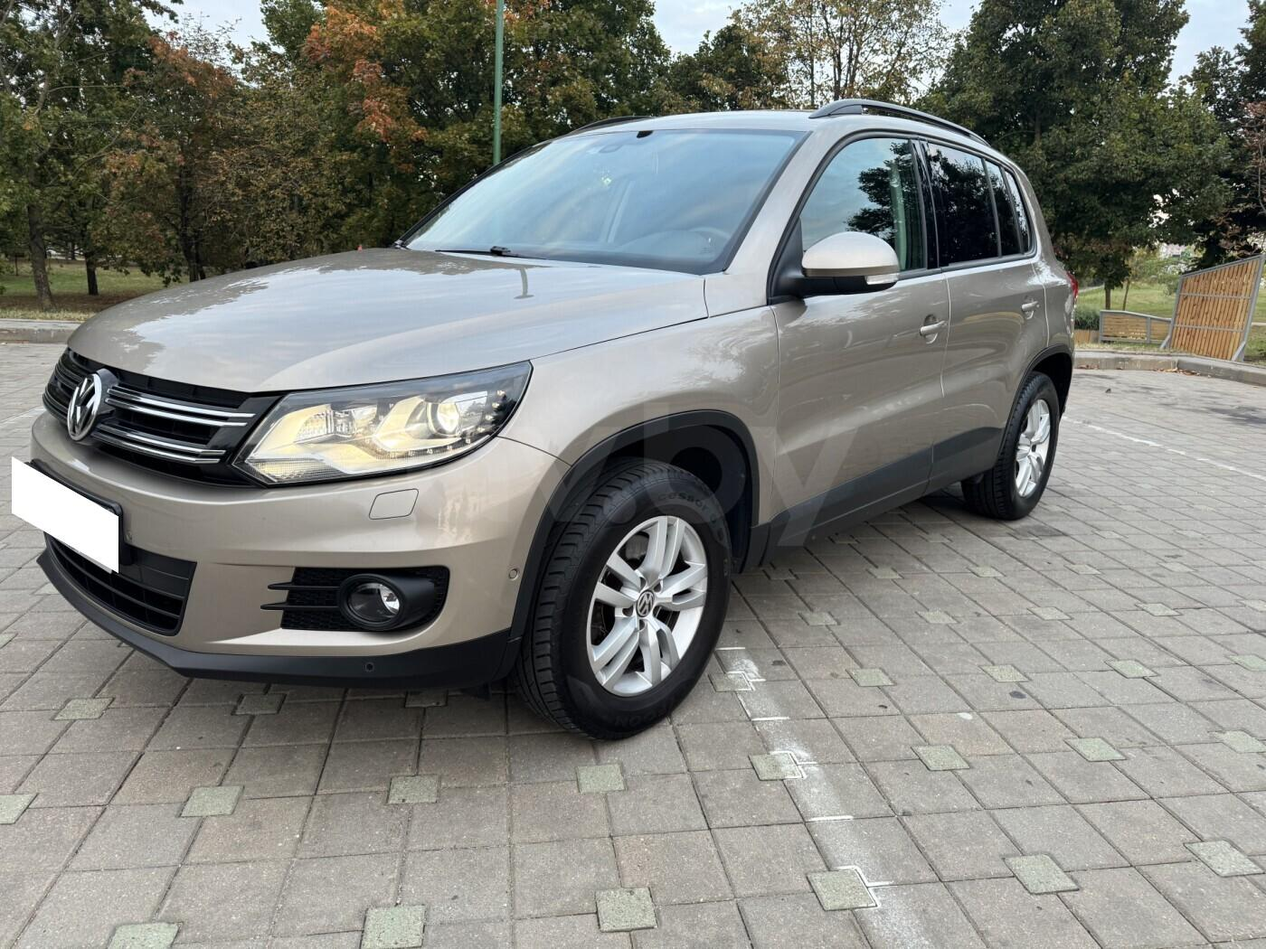Tiguan_2011-2018: (21, 94, 1088, 749)
